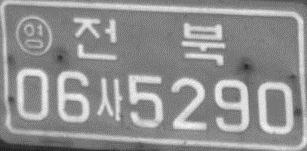0: (256, 80, 293, 135), (15, 67, 49, 121)
2: (169, 77, 207, 132)
5: (126, 73, 164, 128)
6: (56, 70, 90, 124)
9: (213, 78, 250, 132)
사: (95, 77, 124, 123)
영: (14, 14, 54, 58)
전북_D: (70, 16, 227, 66)
